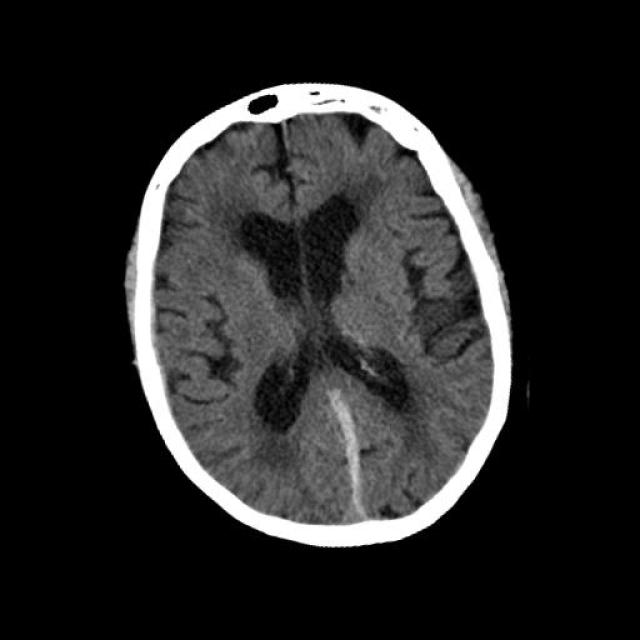Subdural: (282, 367, 433, 551)
